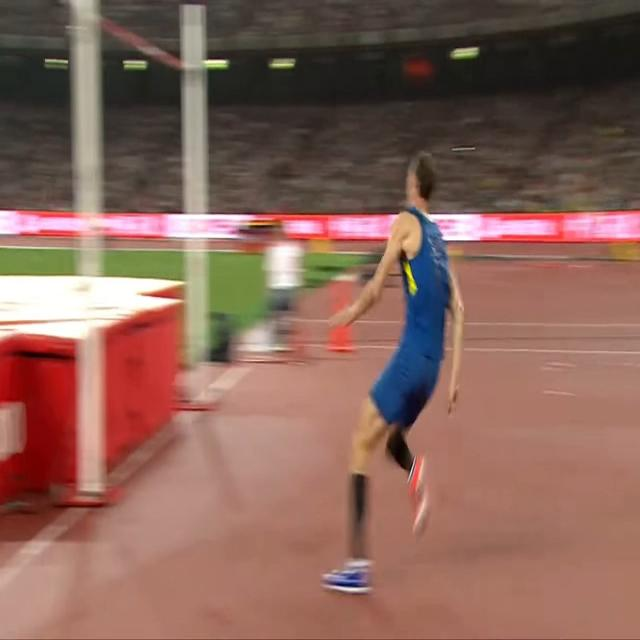run: (321, 149, 465, 597)
